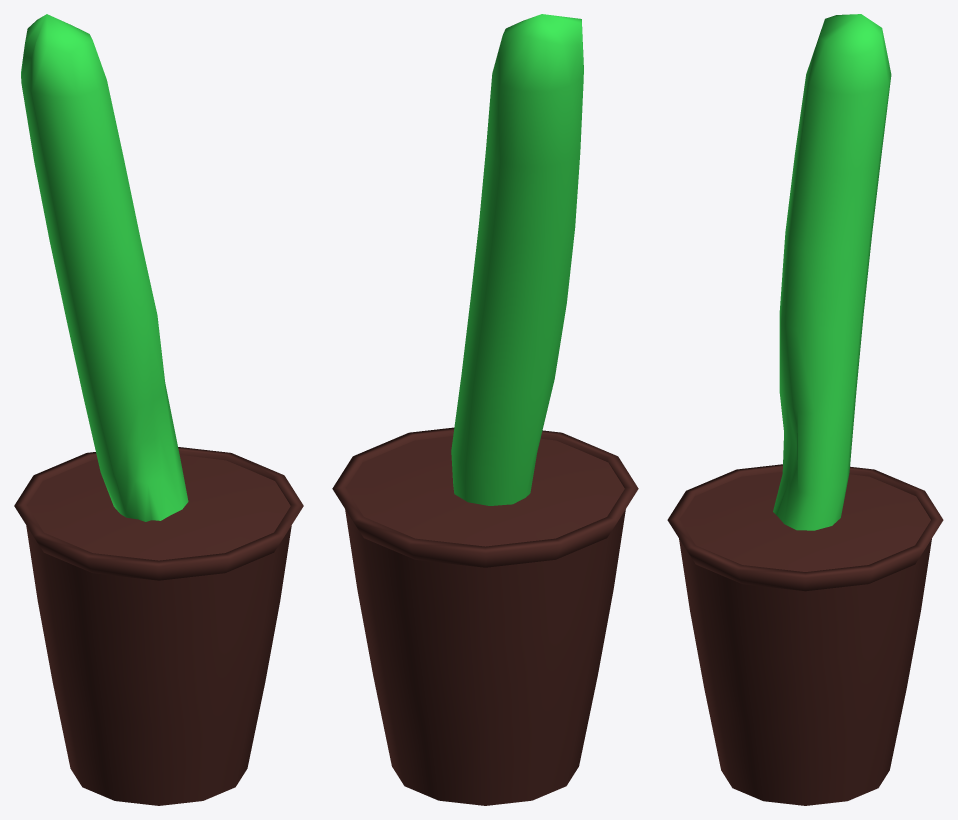
File: Plante05_low.fbx
3 views of the same model, side by side, from view 1: azimuth 30°, elevation 25°; view 2: azimuth 150°, elevation 25°; view 3: azimuth 270°, elevation 25° (orthographic). The views are drawn at different scales.
Visible parts, largest first — view 1: 05_Pot, 05_Plante, 05_Terre; view 2: 05_Pot, 05_Plante, 05_Terre; view 3: 05_Pot, 05_Plante, 05_Terre.
Boxes of the visible parts, x1,y1,x2,y2 form: 05_Pot: [14, 447, 303, 805]; 05_Plante: [21, 14, 188, 521]; 05_Terre: [27, 455, 290, 560]; 05_Pot: [332, 427, 638, 805]; 05_Plante: [451, 14, 583, 505]; 05_Terre: [346, 436, 624, 546]; 05_Pot: [667, 464, 943, 805]; 05_Plante: [773, 14, 891, 530]; 05_Terre: [680, 472, 930, 571].
Size of the model in its own units: 38.67 by 111 by 38.67.
